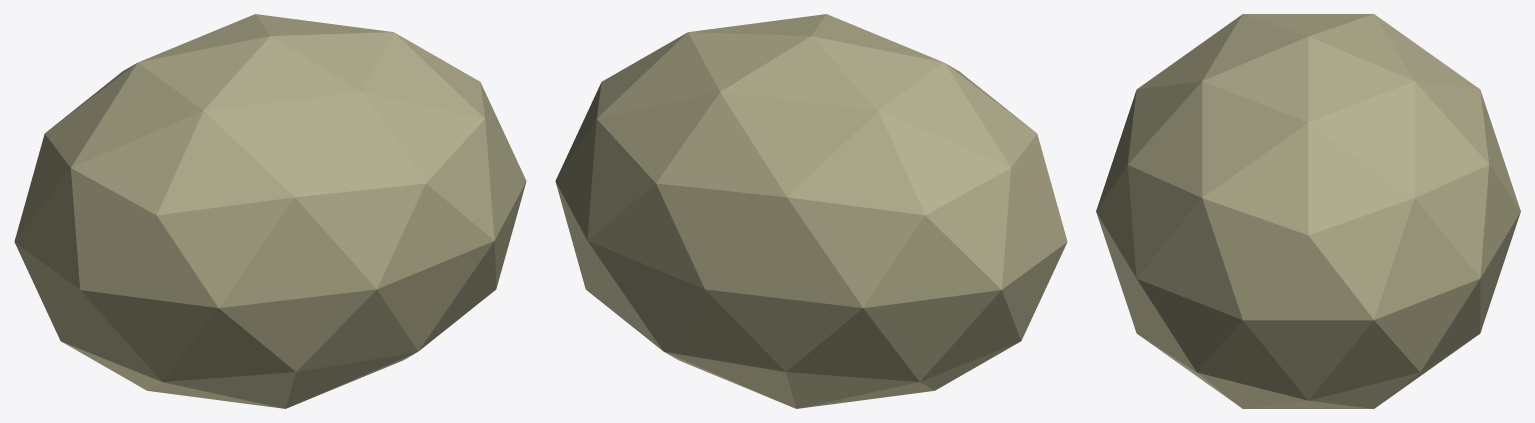
Rendered from rock.glb.
3 renders of one model, left to right at view 1: azimuth 30°, elevation 25°; view 2: azimuth 150°, elevation 25°; view 3: azimuth 270°, elevation 25°, orthographic.
Parts seen in each view (by area): view 1: Rock; view 2: Rock; view 3: Rock.
Boxes of the visible parts, x1,y1,x2,y2 form: Rock: (14, 14, 526, 408); Rock: (555, 14, 1067, 408); Rock: (1096, 14, 1520, 408).
Bounding box in the file's own units: 1.33 × 1 × 1.1.
